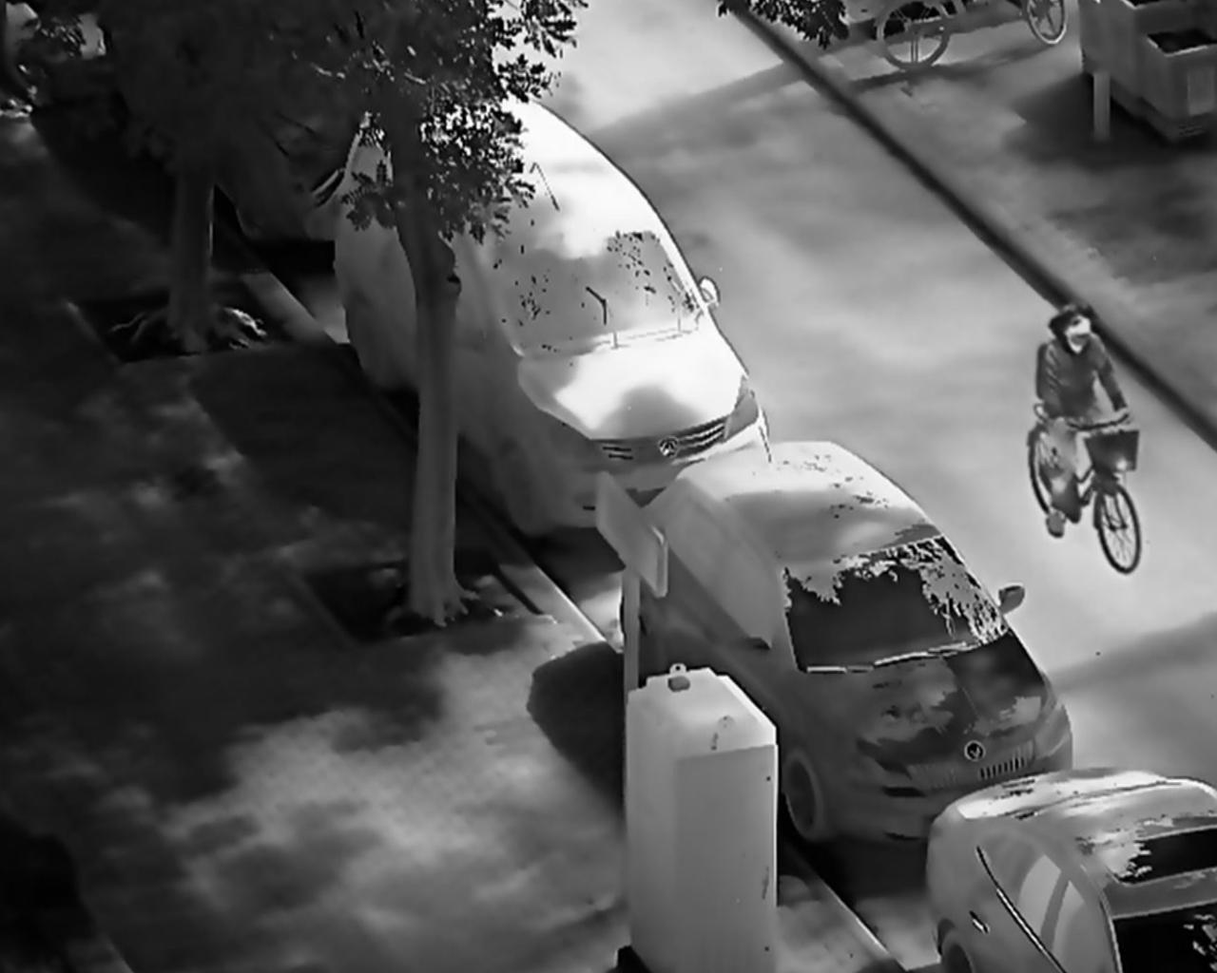person: (1033, 298, 1141, 540)
